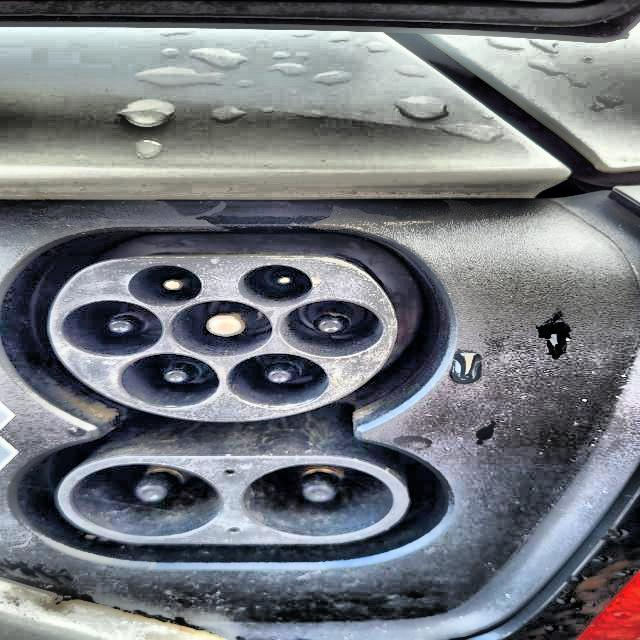inlet: (48, 257, 396, 422)
inlet-above-left: (129, 265, 202, 307)
inlet-above-right: (238, 265, 313, 307)
inlet-below-left: (120, 353, 220, 408)
inlet-below-right: (227, 353, 329, 409)
inlet-center: (169, 300, 272, 358)
inlet-center-left: (62, 300, 163, 357)
inlet-center-right: (280, 300, 382, 357)
